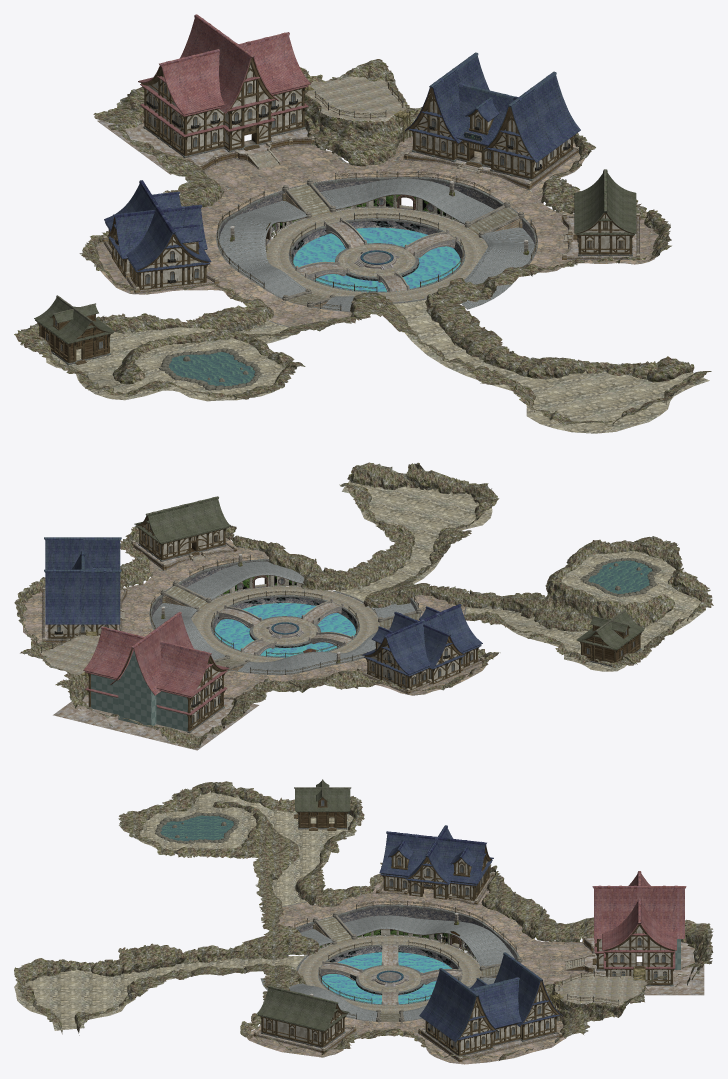
Rendered from Eryn.glb.
3 renders of one model, top to bottom at view 1: azimuth 30°, elevation 25°; view 2: azimuth 150°, elevation 25°; view 3: azimuth 270°, elevation 25°, orthographic. The views are drawn at different scales.
Parts seen in each view (by area): view 1: zb_ground____zb_ground1, pCylinder30, polySurface122300, pCube176, yane, yane.001, yane.002, temp7_temp5_sea00, ki, ki.001, kabe, yane.003 (+19 smaller); view 2: zb_ground____zb_ground1, pCylinder30, polySurface122300, yane.001, yane, pCube176, yane.002, kabe1, temp7_temp5_sea00, yane.003, pPlane35, pCube179 (+15 smaller); view 3: zb_ground____zb_ground1, pCylinder30, polySurface122300, yane.001, yane, pCube176, yane.002, temp7_temp5_sea00, yane.003, ki.001, ki.002, pPlane35 (+16 smaller).
Part boxes in pixels (bbox=[...]): zb_ground____zb_ground1: bbox=[14, 59, 711, 426]; pCylinder30: bbox=[95, 136, 658, 327]; polySurface122300: bbox=[46, 299, 709, 433]; pCube176: bbox=[219, 178, 534, 311]; yane: bbox=[138, 14, 310, 137]; yane.001: bbox=[405, 52, 580, 162]; yane.002: bbox=[104, 180, 211, 272]; temp7_temp5_sea00: bbox=[293, 227, 463, 292]; ki: bbox=[141, 58, 306, 156]; ki.001: bbox=[408, 88, 573, 179]; kabe: bbox=[146, 65, 301, 153]; yane.003: bbox=[574, 169, 636, 235]; zb_ground____zb_ground1: bbox=[14, 462, 713, 748]; pCylinder30: bbox=[23, 537, 485, 697]; polySurface122300: bbox=[335, 481, 706, 671]; yane.001: bbox=[44, 537, 121, 624]; yane: bbox=[83, 611, 229, 715]; pCube176: bbox=[152, 561, 415, 674]; yane.002: bbox=[362, 604, 482, 676]; kabe1: bbox=[91, 651, 187, 731]; temp7_temp5_sea00: bbox=[214, 603, 355, 657]; yane.003: bbox=[134, 496, 230, 544]; pPlane35: bbox=[53, 695, 258, 750]; pCube179: bbox=[216, 598, 354, 655]; zb_ground____zb_ground1: bbox=[14, 781, 713, 1061]; pCylinder30: bbox=[246, 872, 592, 1064]; polySurface122300: bbox=[14, 792, 361, 1030]; yane.001: bbox=[419, 952, 562, 1042]; yane: bbox=[592, 871, 686, 968]; pCube176: bbox=[260, 915, 514, 1020]; yane.002: bbox=[379, 825, 493, 885]; temp7_temp5_sea00: bbox=[321, 952, 451, 1004]; yane.003: bbox=[256, 985, 349, 1031]; ki.001: bbox=[425, 981, 559, 1055]; ki.002: bbox=[382, 848, 491, 900]; pPlane35: bbox=[584, 937, 704, 995].
Size of the model in its own units: 133 by 25.62 by 152.
Materials: 122 (119 with a texture image).
